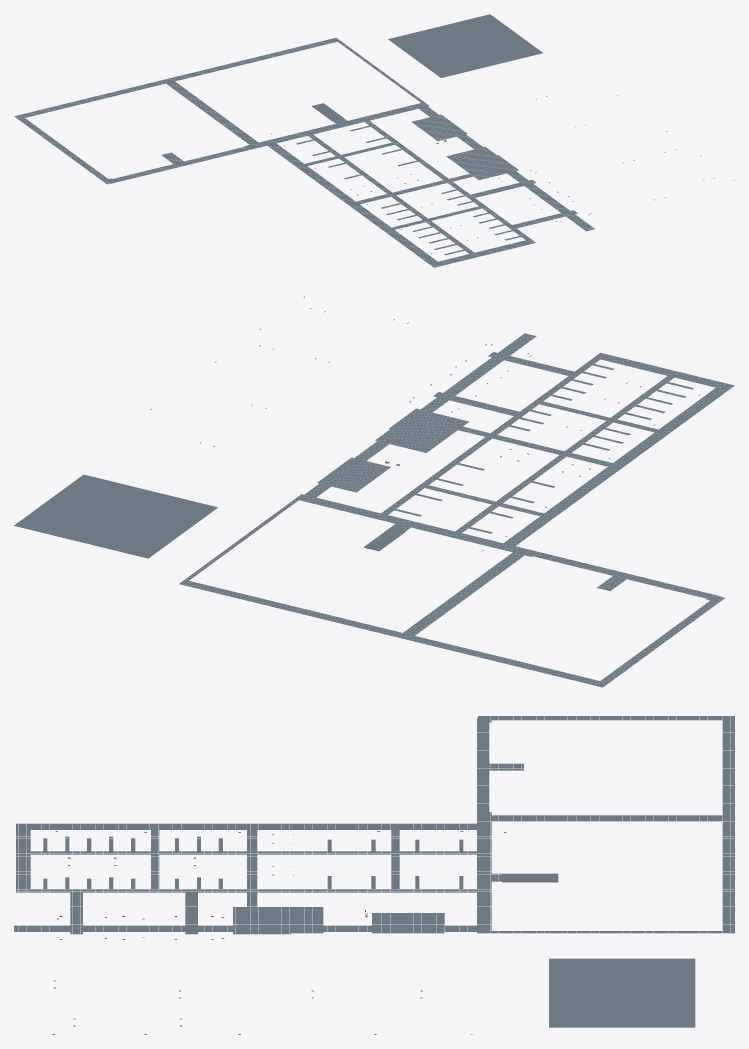
Rendered from Neris-05.glb.
The picture shows the model from 3 angles, top to bottom: view 1: azimuth 30°, elevation 25°; view 2: azimuth 150°, elevation 25°; view 3: azimuth 270°, elevation 25°; orthographic projection. The views are drawn at different scales.
Visible parts, largest first — view 1: Town Pavinglight; view 2: Town Pavinglight; view 3: Town Pavinglight.
Boxes of the visible parts, left/top/right/bottom form: Town Pavinglight: left=14, top=14, right=594, bottom=267; Town Pavinglight: left=14, top=333, right=734, bottom=687; Town Pavinglight: left=14, top=716, right=734, bottom=1027.
Size of the model in its own units: 723 by 3.37 by 690.
